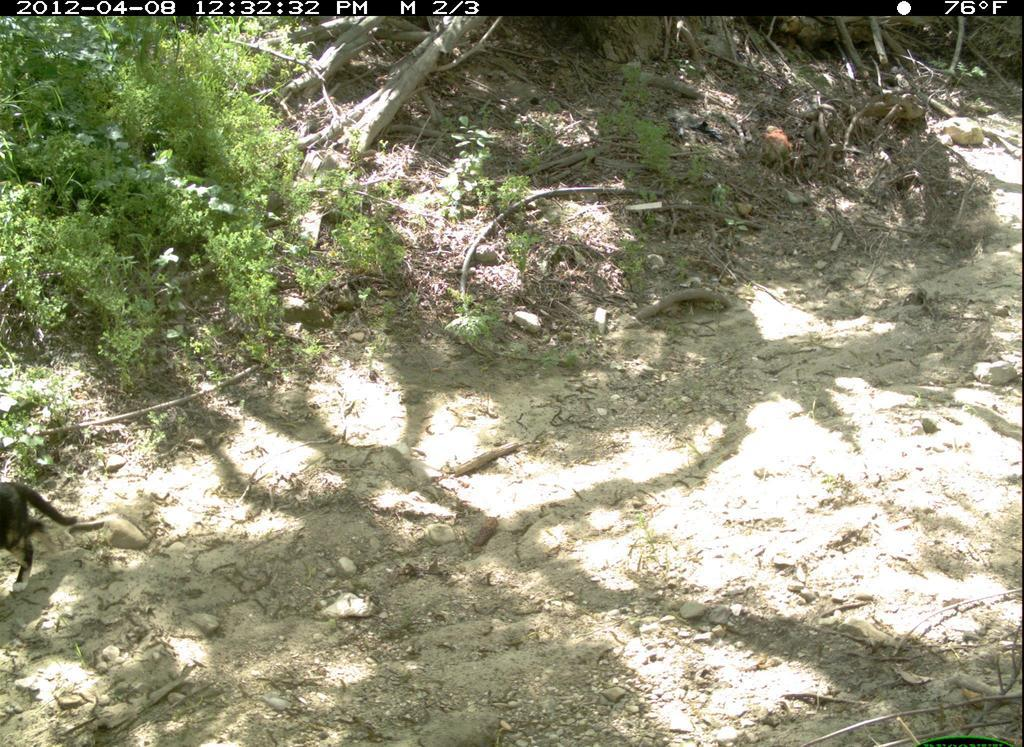cat: (6, 459, 91, 593)
